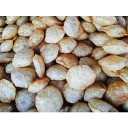poori: (67, 66, 96, 91), (36, 86, 61, 111), (10, 67, 37, 86), (16, 87, 36, 110), (47, 63, 70, 82), (99, 53, 126, 69), (39, 44, 59, 63), (88, 99, 119, 111), (65, 14, 81, 37), (90, 15, 118, 28), (1, 79, 16, 103), (14, 49, 33, 67), (102, 24, 126, 37), (45, 27, 64, 42), (72, 41, 91, 56), (2, 24, 18, 39), (19, 23, 34, 38)
